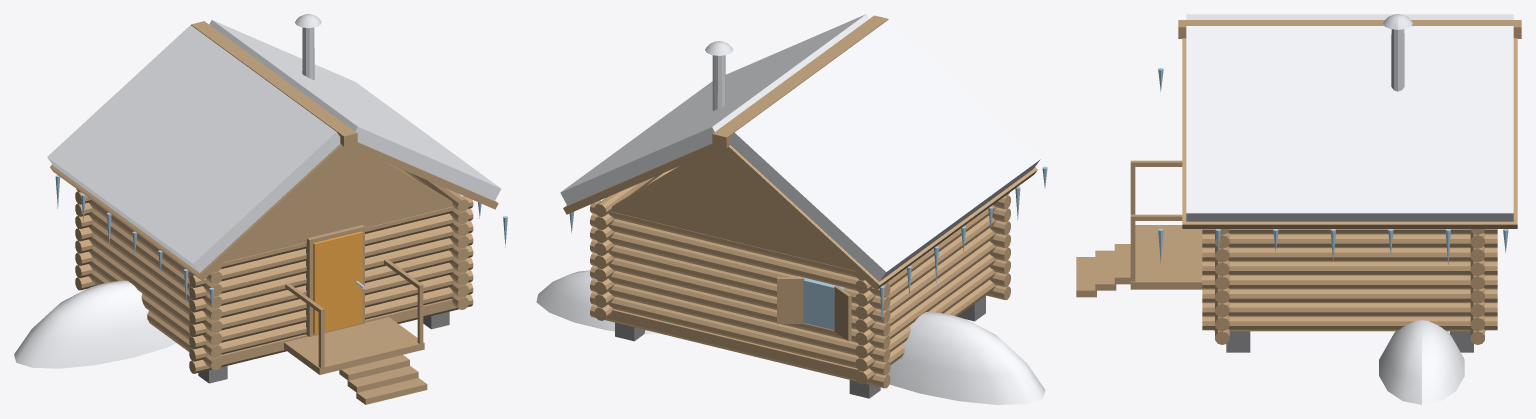
The model's file is backcountry-snowboarding-and-avalanche-safety-backcoun-cb8844be__18954.glb.
The picture shows the model from 3 angles, left to right: view 1: azimuth 30°, elevation 25°; view 2: azimuth 150°, elevation 25°; view 3: azimuth 270°, elevation 25°; orthographic projection. The views are drawn at different scales.
Parts seen in each view (by area): view 1: backcountry-hut; view 2: backcountry-hut; view 3: backcountry-hut.
Boxes of the visible parts, box(x1,y1,x2,y2) form: backcountry-hut: box(14, 14, 507, 404); backcountry-hut: box(536, 14, 1047, 404); backcountry-hut: box(1076, 14, 1521, 404).
Size of the model in its own units: 7.45 by 4.17 by 5.58.
